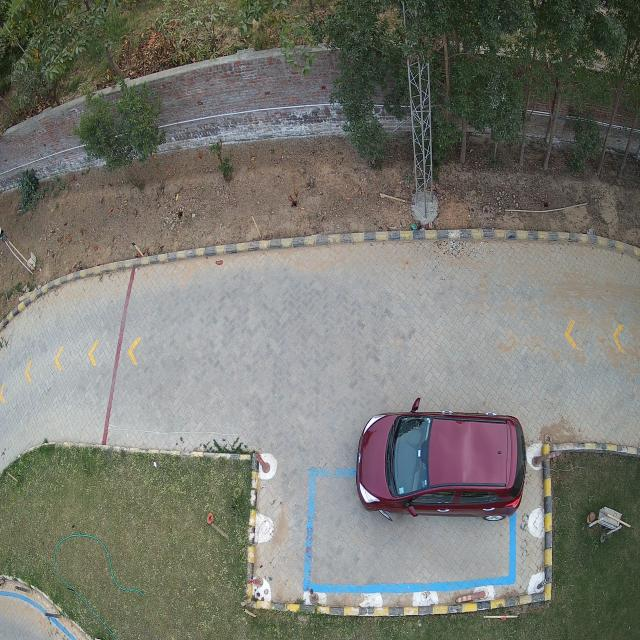car: (355, 400, 526, 522)
